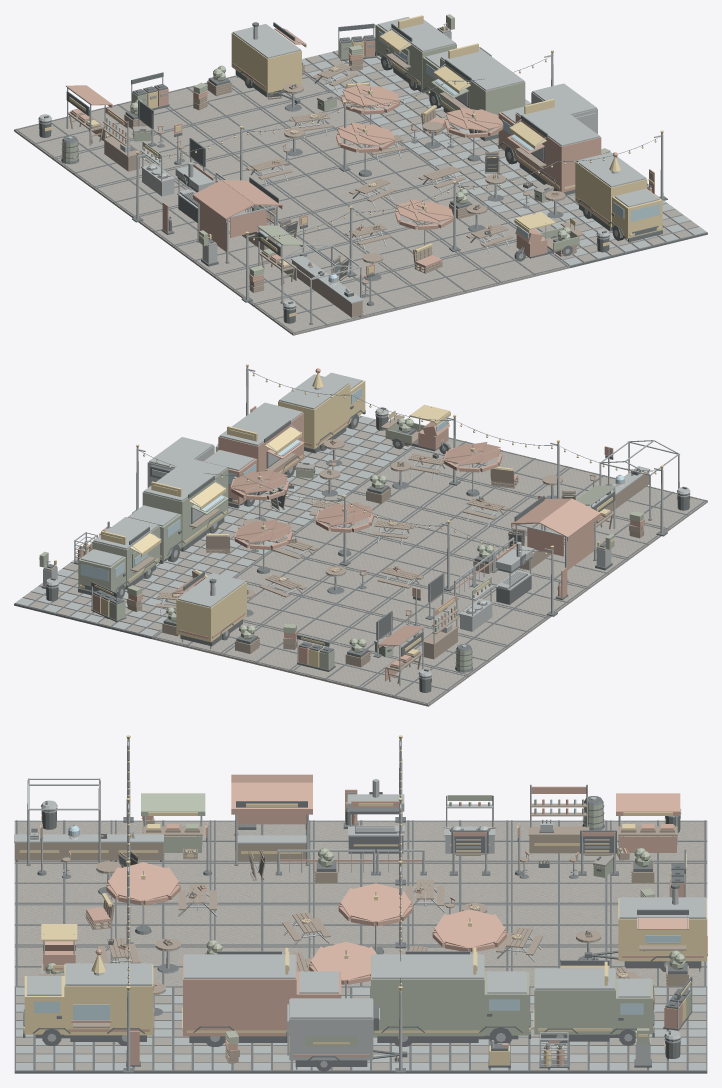
The model's file is street-food-market-yard.glb.
3 views of the same model, one above another, from view 1: azimuth 30°, elevation 25°; view 2: azimuth 150°, elevation 25°; view 3: azimuth 270°, elevation 25° (orthographic). The views are drawn at different scales.
Visible parts, largest first — view 1: 000-market-floor-tile/market-floor-tile-concrete, 028-market-floor-tile-cobble/market-floor-tile-cobble-steel, 000-market-floor-tile/market-floor-tile-charcoal, 043-trestle-stall-with-awning/trestle-stall-with-awning-scar, 043-trestle-stall-with-awning/trestle-stall-with-awning-timb, 043-trestle-stall-with-awning/trestle-stall-with-awning-cana, 043-trestle-stall-with-awning/trestle-stall-with-awning-leaf, 047-bar-stall-with-taps/bar-stall-with-taps-glass; view 2: 000-market-floor-tile/market-floor-tile-concrete, 028-market-floor-tile-cobble/market-floor-tile-cobble-steel, 000-market-floor-tile/market-floor-tile-charcoal, 043-trestle-stall-with-awning/trestle-stall-with-awning-scar, 043-trestle-stall-with-awning/trestle-stall-with-awning-timb, 043-trestle-stall-with-awning/trestle-stall-with-awning-cana, 043-trestle-stall-with-awning/trestle-stall-with-awning-leaf, 047-bar-stall-with-taps/bar-stall-with-taps-glass; view 3: 000-market-floor-tile/market-floor-tile-concrete, 028-market-floor-tile-cobble/market-floor-tile-cobble-steel, 000-market-floor-tile/market-floor-tile-charcoal, 043-trestle-stall-with-awning/trestle-stall-with-awning-scar, 043-trestle-stall-with-awning/trestle-stall-with-awning-leaf, 043-trestle-stall-with-awning/trestle-stall-with-awning-timb, 043-trestle-stall-with-awning/trestle-stall-with-awning-cana, 047-bar-stall-with-taps/bar-stall-with-taps-glass.
Part boxes in pixels (left/top/right/bottom): 000-market-floor-tile/market-floor-tile-concrete: left=14, top=27, right=698, bottom=335; 028-market-floor-tile-cobble/market-floor-tile-cobble-steel: left=38, top=17, right=706, bottom=323; 000-market-floor-tile/market-floor-tile-charcoal: left=15, top=22, right=707, bottom=333; 043-trestle-stall-with-awning/trestle-stall-with-awning-scar: left=66, top=28, right=654, bottom=282; 043-trestle-stall-with-awning/trestle-stall-with-awning-timb: left=68, top=53, right=584, bottom=317; 043-trestle-stall-with-awning/trestle-stall-with-awning-cana: left=44, top=15, right=663, bottom=316; 043-trestle-stall-with-awning/trestle-stall-with-awning-leaf: left=62, top=14, right=610, bottom=291; 047-bar-stall-with-taps/bar-stall-with-taps-glass: left=109, top=31, right=659, bottom=292; 000-market-floor-tile/market-floor-tile-concrete: left=23, top=408, right=707, bottom=706; 028-market-floor-tile-cobble/market-floor-tile-cobble-steel: left=15, top=368, right=690, bottom=685; 000-market-floor-tile/market-floor-tile-charcoal: left=14, top=370, right=706, bottom=704; 043-trestle-stall-with-awning/trestle-stall-with-awning-scar: left=77, top=368, right=645, bottom=681; 043-trestle-stall-with-awning/trestle-stall-with-awning-timb: left=127, top=415, right=649, bottom=683; 043-trestle-stall-with-awning/trestle-stall-with-awning-cana: left=39, top=364, right=690, bottom=681; 043-trestle-stall-with-awning/trestle-stall-with-awning-leaf: left=39, top=418, right=644, bottom=669; 047-bar-stall-with-taps/bar-stall-with-taps-glass: left=80, top=387, right=639, bottom=629; 000-market-floor-tile/market-floor-tile-concrete: left=14, top=792, right=707, bottom=1070; 028-market-floor-tile-cobble/market-floor-tile-cobble-steel: left=14, top=739, right=706, bottom=1070; 000-market-floor-tile/market-floor-tile-charcoal: left=14, top=747, right=707, bottom=1073; 043-trestle-stall-with-awning/trestle-stall-with-awning-scar: left=40, top=774, right=707, bottom=1066; 043-trestle-stall-with-awning/trestle-stall-with-awning-leaf: left=35, top=793, right=690, bottom=1046; 043-trestle-stall-with-awning/trestle-stall-with-awning-timb: left=14, top=803, right=688, bottom=1064; 043-trestle-stall-with-awning/trestle-stall-with-awning-cana: left=19, top=735, right=707, bottom=1066; 047-bar-stall-with-taps/bar-stall-with-taps-glass: left=34, top=799, right=680, bottom=1020.
Size of the model in its own units: 24.42 by 3.97 by 28.05.
Materials: 8 (1 with a texture image).
